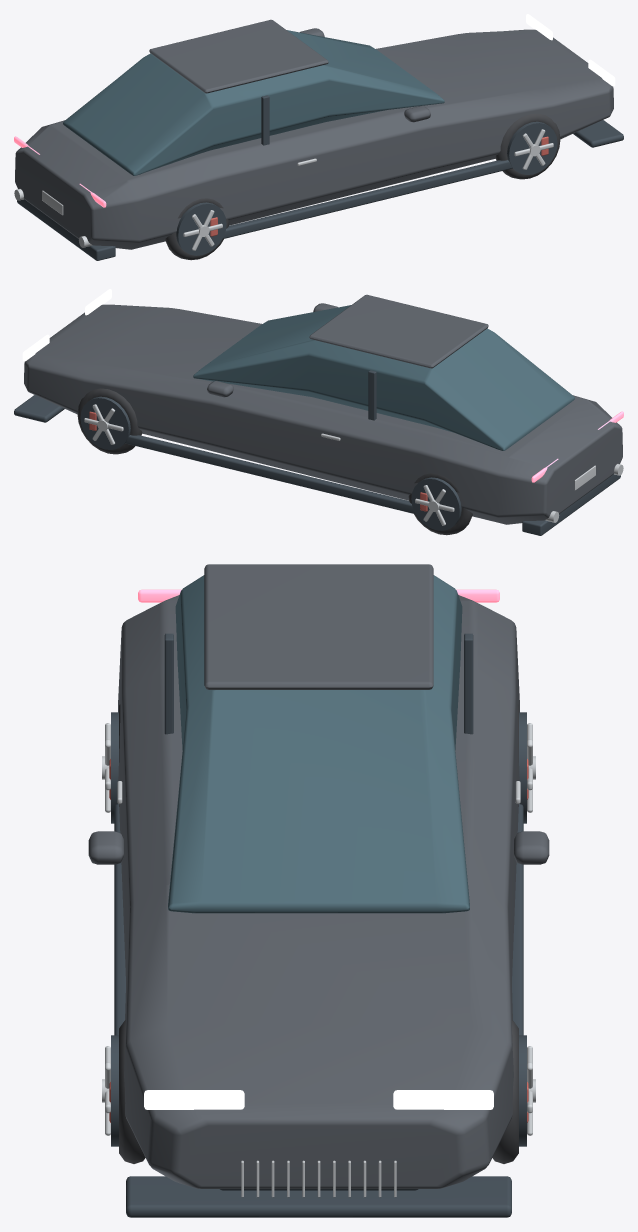
The model's file is SM_lux_limo.glb.
3 views of the same model, one above another, from view 1: azimuth 30°, elevation 25°; view 2: azimuth 150°, elevation 25°; view 3: azimuth 270°, elevation 25° (orthographic). The views are drawn at different scales.
Visible parts, largest first — view 1: SM_lux_limo; view 2: SM_lux_limo; view 3: SM_lux_limo.
Part boxes in pixels (left/top/right/bottom): SM_lux_limo: left=14, top=14, right=623, bottom=260; SM_lux_limo: left=14, top=289, right=623, bottom=535; SM_lux_limo: left=88, top=564, right=549, bottom=1217.
Bounding box in the file's own units: 5.85 × 1.54 × 2.16.
